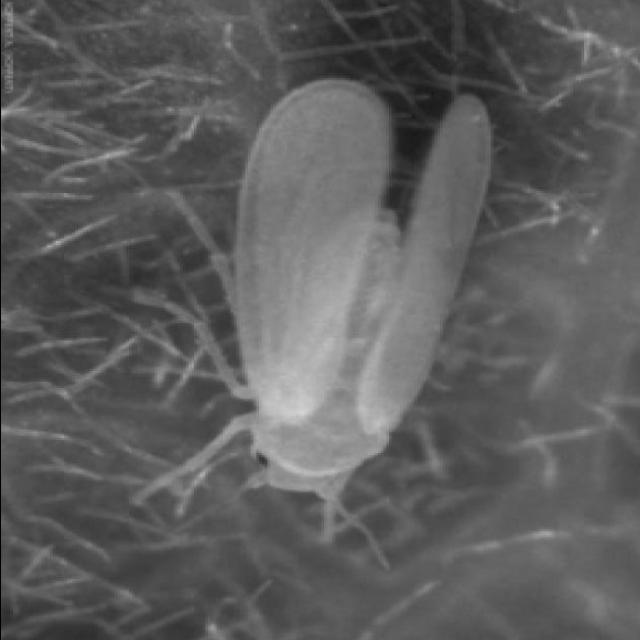Whitefly: (177, 74, 510, 562)
